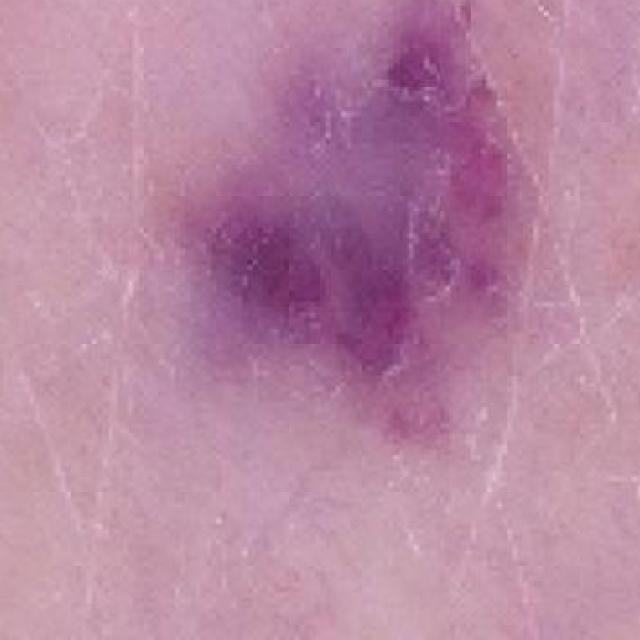VASC: (143, 0, 611, 449)
